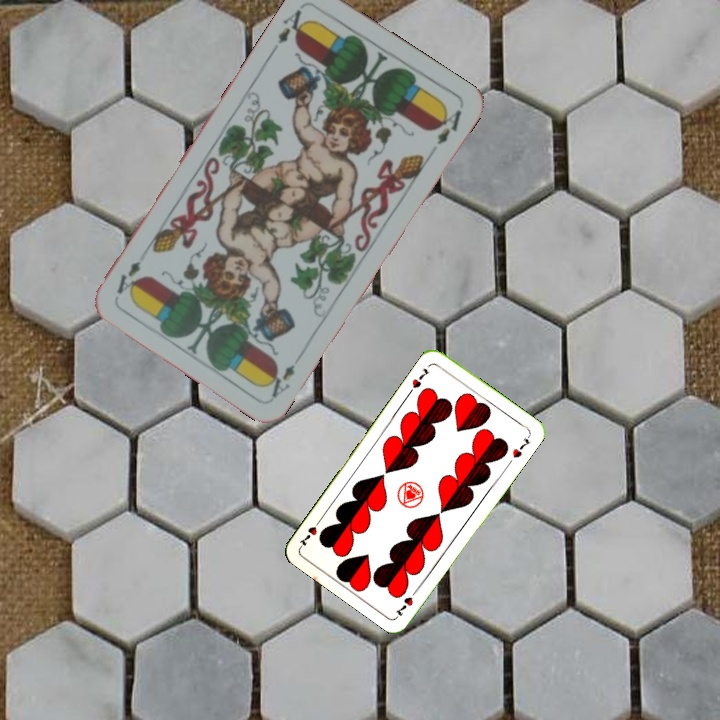EA: (262, 349, 306, 401), (273, 5, 311, 47)
H7: (392, 584, 421, 619), (408, 364, 432, 391)
